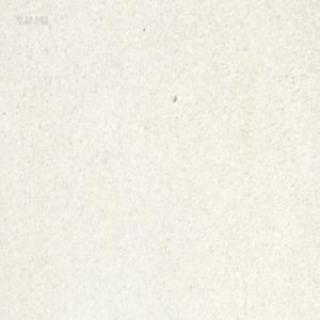Wrenchtrack_idkeyframe: (219, 0, 227, 4)
